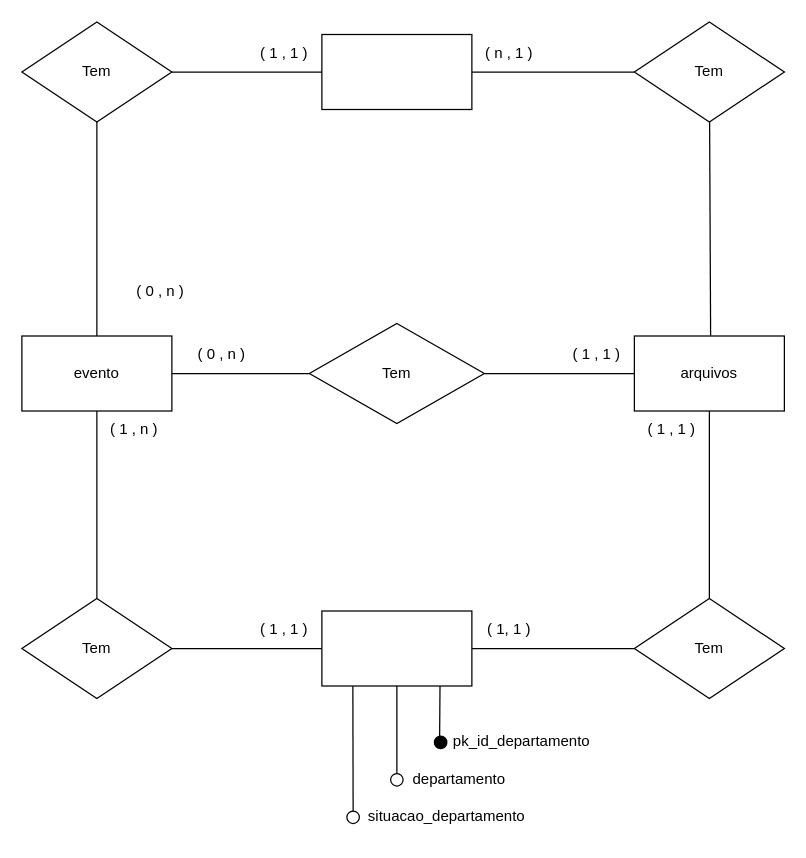
Image size: 806x858. Some labels were removed from this diagram. Each missing label, with the centre of its shape:
modalidade_arquivo: the point at 396,648
modalidade_evento: the point at 396,71
